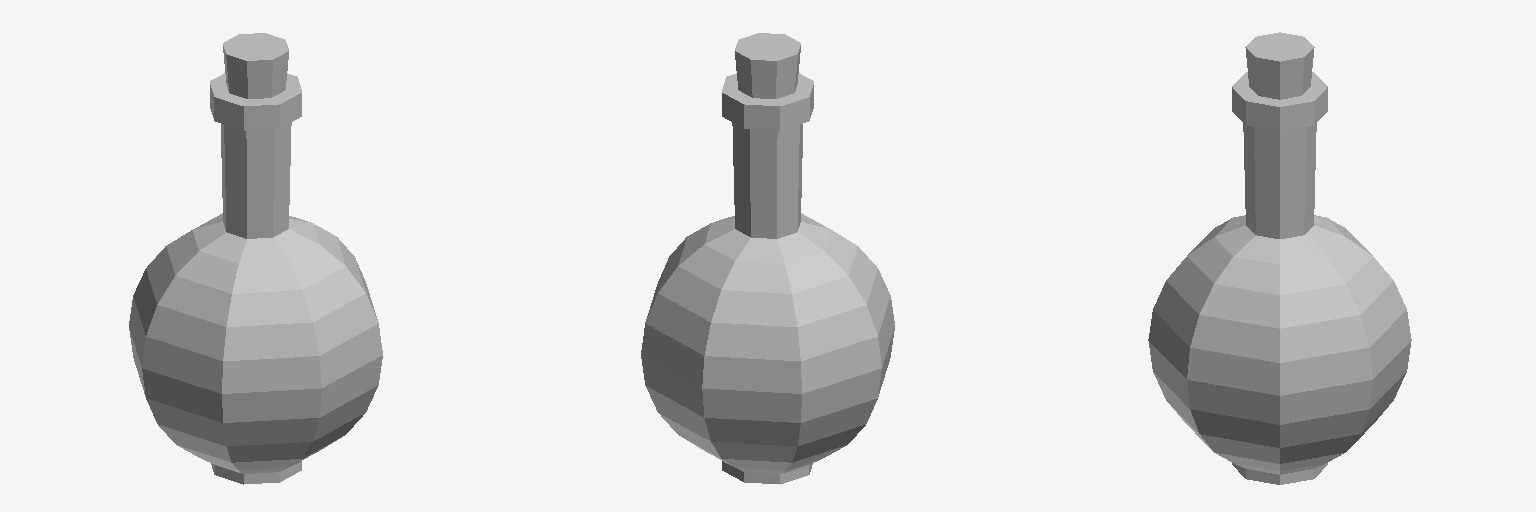
File: Potion.obj
3 renders of one model, left to right at view 1: azimuth 30°, elevation 25°; view 2: azimuth 150°, elevation 25°; view 3: azimuth 270°, elevation 25°, orthographic.
Visible parts, largest first — view 1: pSphere1 group1, group1 pCylinder1; view 2: pSphere1 group1, group1 pCylinder1; view 3: pSphere1 group1, group1 pCylinder1.
Boxes of the visible parts, box(x1,y1,x2,y2) form: pSphere1 group1: box(129, 73, 382, 484); group1 pCylinder1: box(223, 33, 288, 98); pSphere1 group1: box(641, 73, 894, 484); group1 pCylinder1: box(735, 33, 800, 98); pSphere1 group1: box(1148, 72, 1411, 484); group1 pCylinder1: box(1245, 32, 1314, 99).
Size of the model in its own units: 2 by 3.5 by 2.